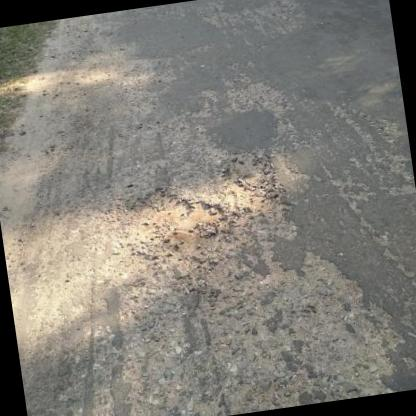pothole: (110, 177, 230, 271), (214, 146, 289, 223)
